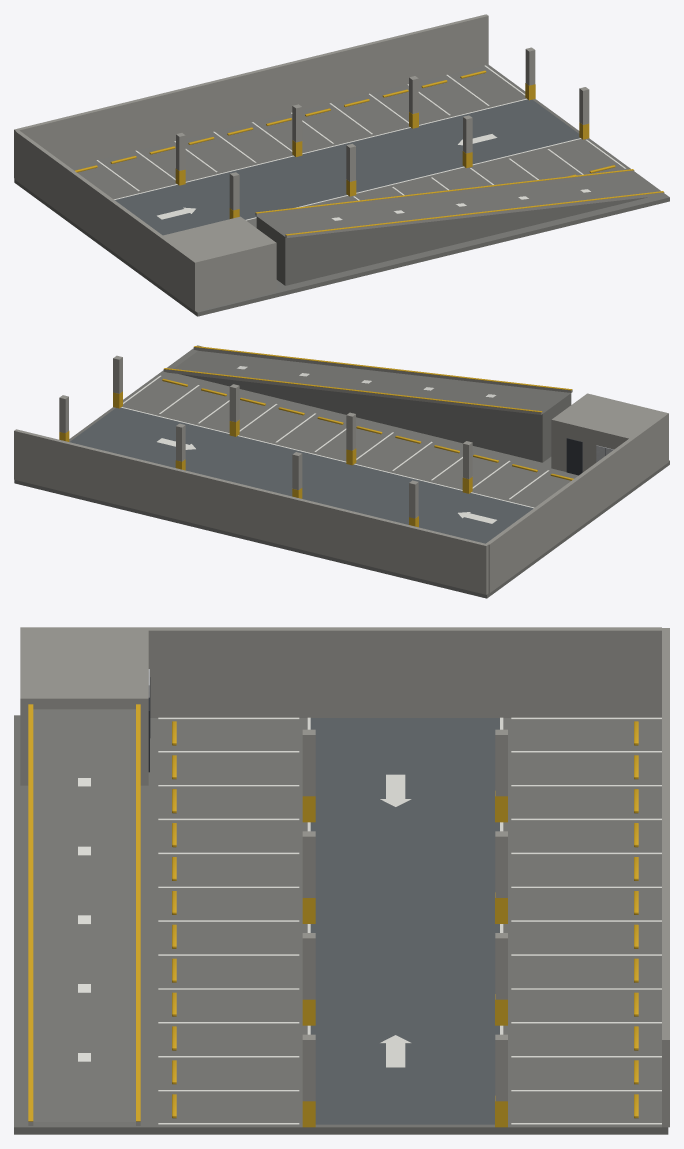
Rendered from carpark.glb.
3 renders of one model, top to bottom at view 1: azimuth 30°, elevation 25°; view 2: azimuth 150°, elevation 25°; view 3: azimuth 270°, elevation 25°, orthographic. The views are drawn at different scales.
Parts seen in each view (by area): view 1: slab, wall_s, north_block, aisle, core, detail, cols, paint; view 2: wall_s, slab, north_block, aisle, core, detail, cols, paint, doors; view 3: slab, aisle, core, north_block, paint, detail, cols, wall_s.
Part boxes in pixels (bbox=[...]): slab: bbox=[14, 64, 669, 316]; wall_s: bbox=[14, 14, 488, 178]; north_block: bbox=[255, 170, 664, 285]; aisle: bbox=[115, 99, 579, 235]; core: bbox=[15, 130, 276, 311]; detail: bbox=[75, 70, 663, 235]; cols: bbox=[176, 47, 589, 210]; paint: bbox=[96, 65, 626, 220]; wall_s: bbox=[14, 429, 488, 594]; slab: bbox=[14, 345, 669, 598]; north_block: bbox=[163, 347, 572, 462]; aisle: bbox=[69, 407, 533, 543]; core: bbox=[486, 393, 668, 593]; detail: bbox=[59, 346, 573, 527]; cols: bbox=[59, 355, 472, 518]; paint: bbox=[121, 366, 549, 523]; doors: bbox=[566, 438, 605, 475]; slab: bbox=[14, 715, 668, 1134]; aisle: bbox=[310, 718, 499, 1124]; core: bbox=[20, 627, 661, 785]; north_block: bbox=[28, 709, 140, 1125]; paint: bbox=[78, 717, 661, 1124]; detail: bbox=[28, 704, 638, 1127]; cols: bbox=[302, 729, 507, 1101]; wall_s: bbox=[662, 628, 669, 1127].
Bounding box in the file's own units: 30.46 × 3.42 × 20.45.
Materials: 7 (7 with a texture image).
